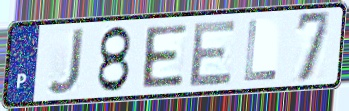7: (294, 10, 331, 86)
8: (96, 25, 133, 95)
E: (186, 17, 239, 89), (141, 22, 189, 90)
J: (45, 26, 87, 97)
L: (242, 19, 278, 83)
